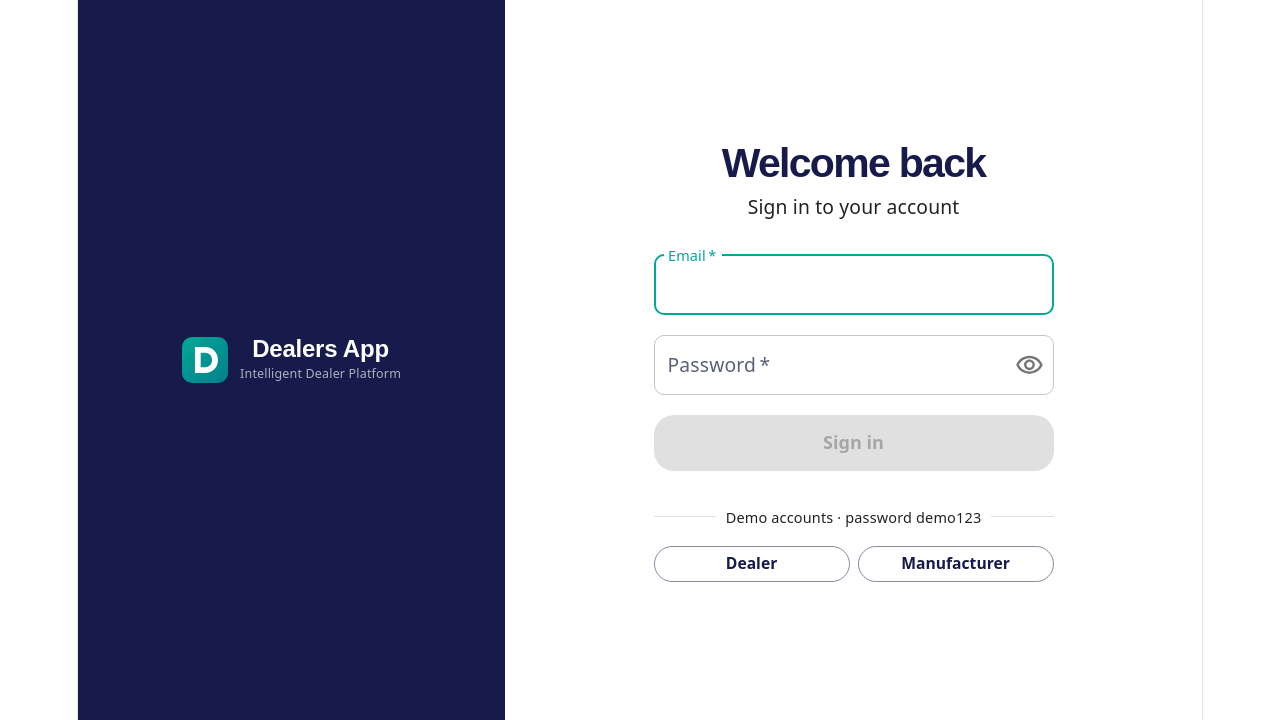
Test: Login › demo account buttons fill the form
Click the button "Dealer" at (752, 564), box [654,546,850,582]
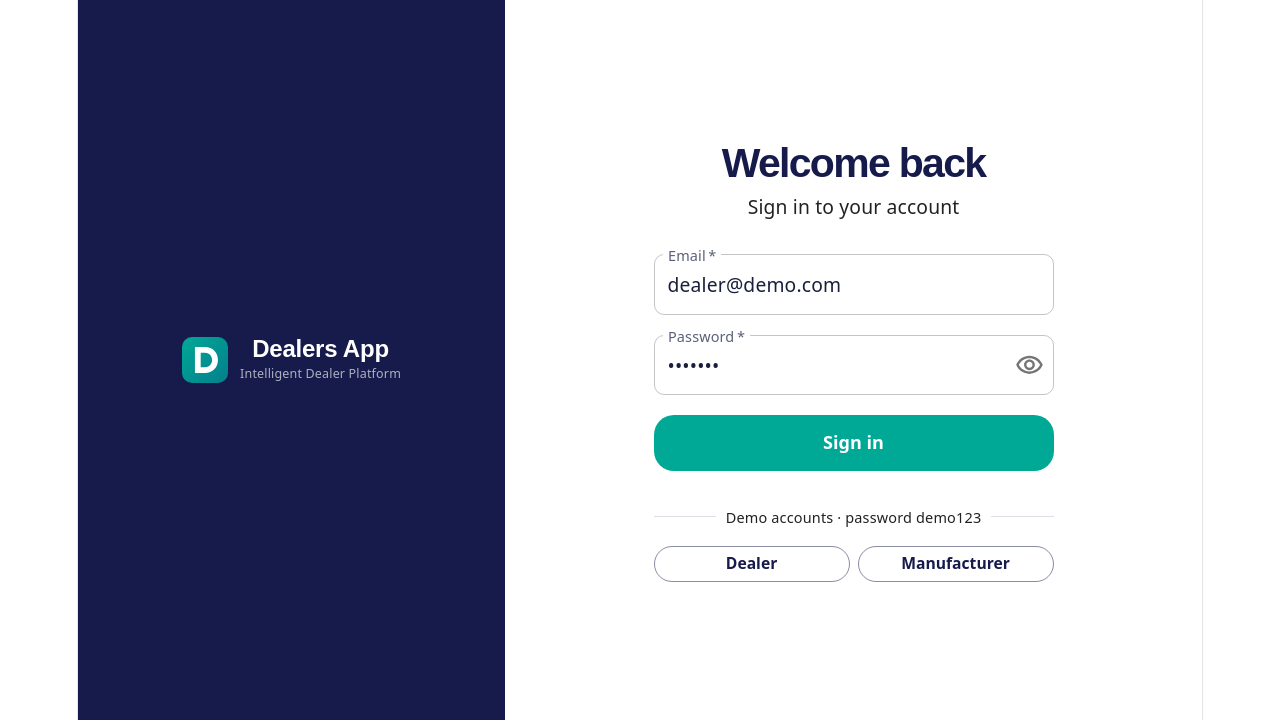
Expected: the field labelled "Email *" holds "dealer@demo.com", [654,254,1054,315]
Expected: the password field labelled "Password *" is not empty, [654,335,999,395]
Expected: the button "Sign in" is enabled, [654,416,1054,471]
